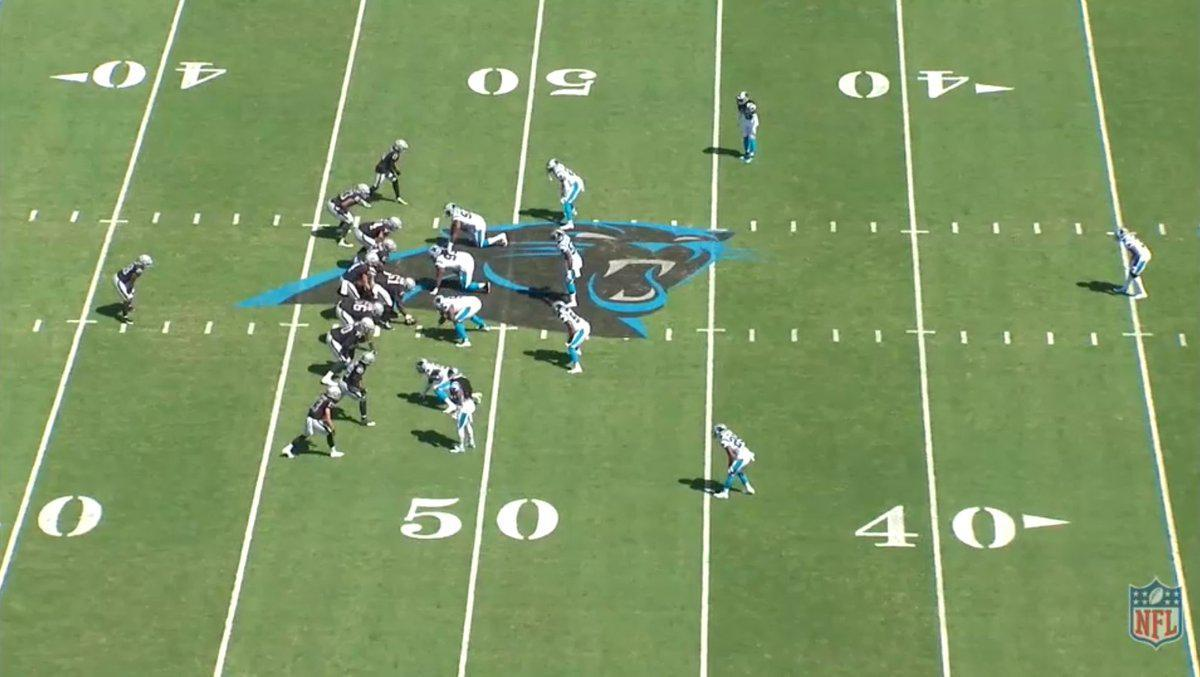player: (283, 381, 349, 465), (711, 419, 761, 505), (327, 350, 376, 429), (441, 201, 508, 253), (113, 253, 157, 332), (421, 246, 486, 299), (435, 290, 492, 350), (1113, 225, 1155, 304), (329, 181, 375, 252), (324, 317, 378, 377), (547, 155, 588, 233), (365, 139, 412, 207), (551, 299, 591, 378), (551, 226, 586, 316), (442, 371, 479, 456), (341, 254, 388, 319), (412, 359, 470, 410), (373, 273, 422, 333), (732, 88, 765, 169), (355, 215, 404, 258), (342, 298, 389, 340), (353, 238, 402, 264)
